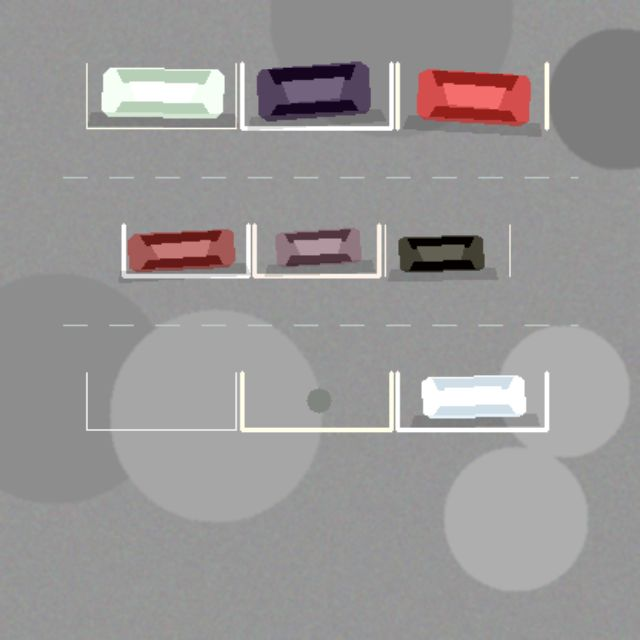space-empty: (86, 372, 235, 429), (242, 372, 391, 429)
space-occupied: (86, 63, 235, 128), (242, 63, 391, 128), (397, 63, 546, 128), (397, 372, 546, 429), (123, 225, 248, 275), (254, 225, 378, 275), (385, 225, 509, 275)
